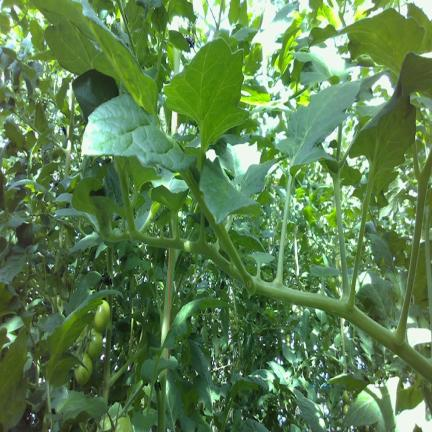6kp_petiole: (102, 353, 130, 401), (62, 136, 73, 169)
MainStem: (160, 250, 177, 347), (103, 295, 113, 403), (64, 92, 75, 176)
tomato: (75, 353, 92, 385), (93, 300, 110, 331), (87, 328, 103, 359), (115, 417, 133, 431), (97, 413, 111, 431), (342, 389, 350, 403), (343, 404, 348, 415)
